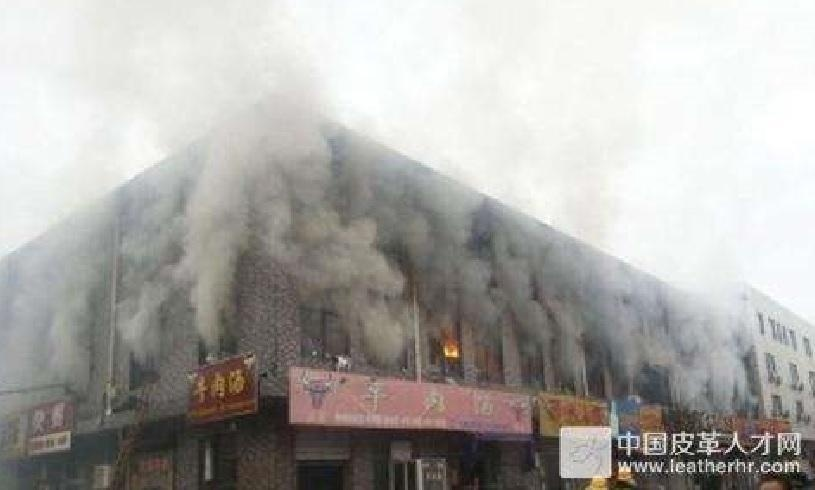fire: (439, 333, 461, 360)
